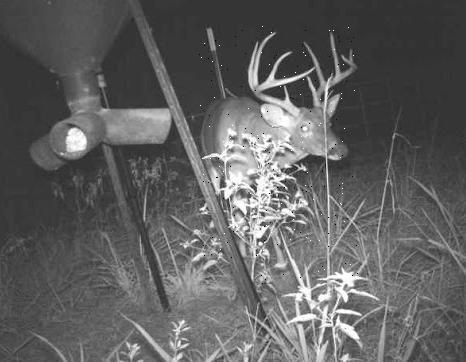Deer: (197, 26, 358, 284)
